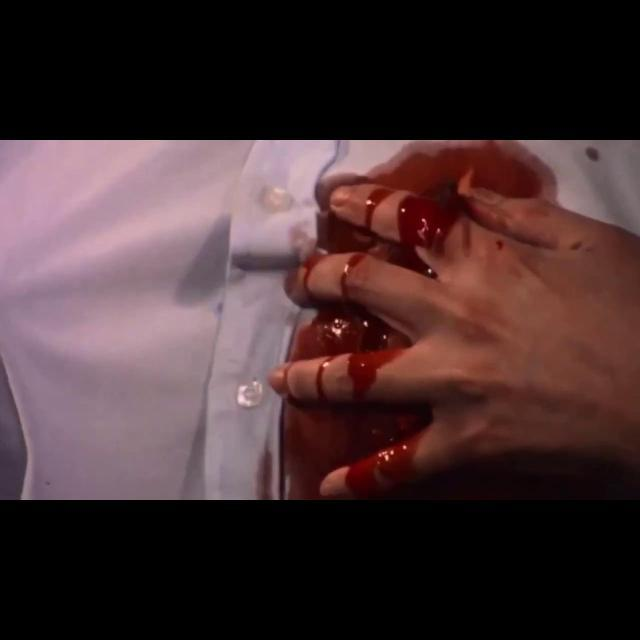blood: (260, 140, 586, 500), (584, 146, 602, 162)
